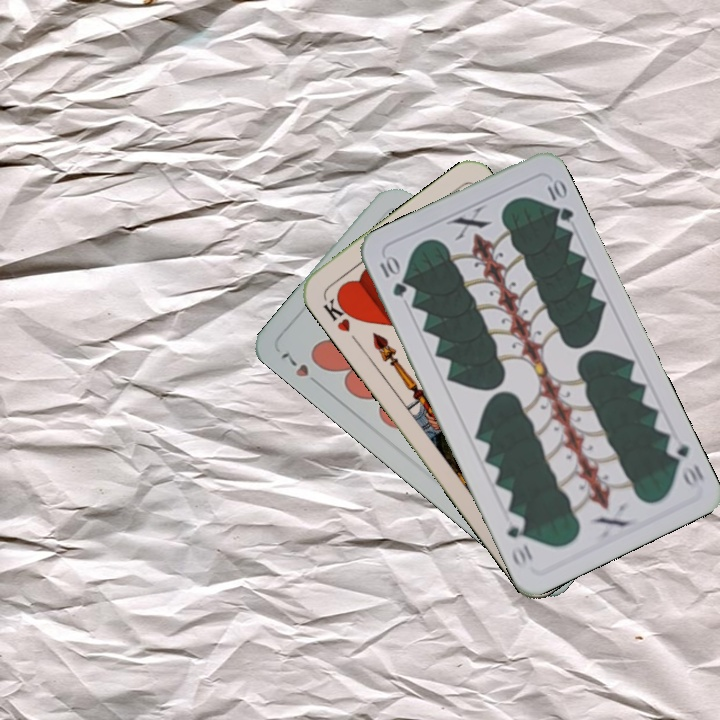G10: (662, 433, 707, 492), (375, 252, 410, 300)
H7: (276, 346, 325, 390)
HK: (319, 290, 358, 335)
